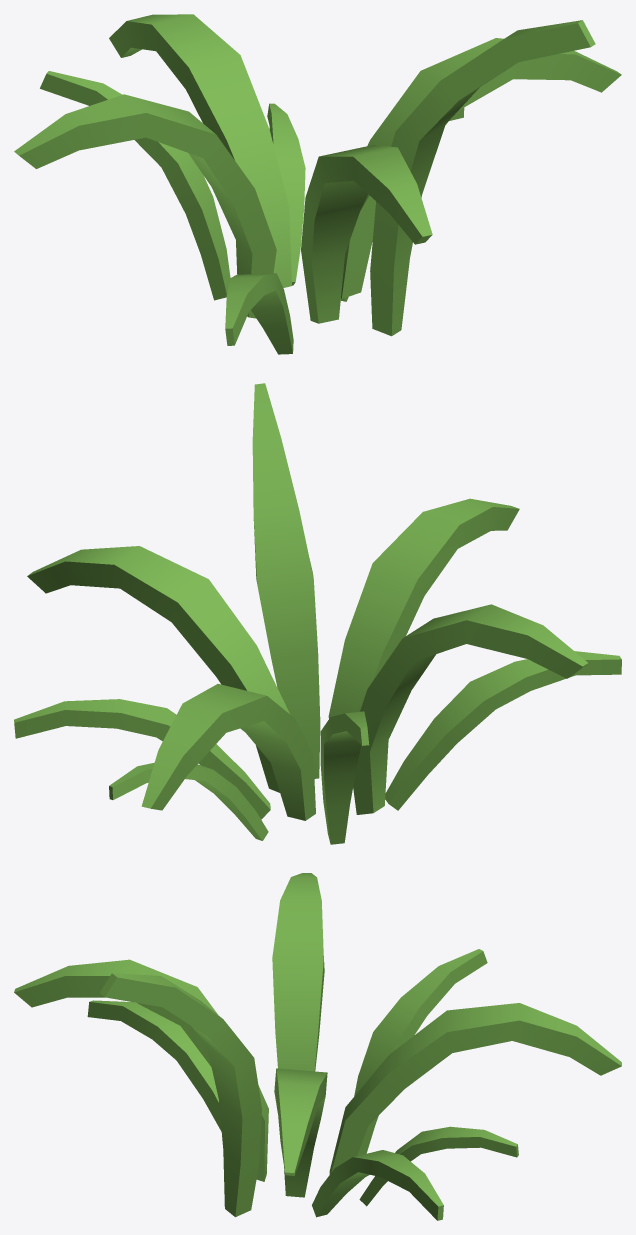
Rendered from gRASS.fbx.
3 views of the same model, one above another, from view 1: azimuth 30°, elevation 25°; view 2: azimuth 150°, elevation 25°; view 3: azimuth 270°, elevation 25° (orthographic). The views are drawn at different scales.
Parts seen in each view (by area): view 1: pCube15; view 2: pCube15; view 3: pCube15.
Boxes of the visible parts, x1,y1,x2,y2 form: pCube15: [14, 14, 621, 354]; pCube15: [14, 383, 621, 844]; pCube15: [14, 873, 621, 1220].
Size of the model in its own units: 3.45 by 1.87 by 3.53.
